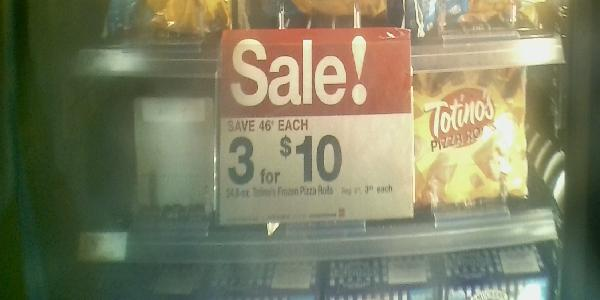icecream: (408, 71, 541, 206)
